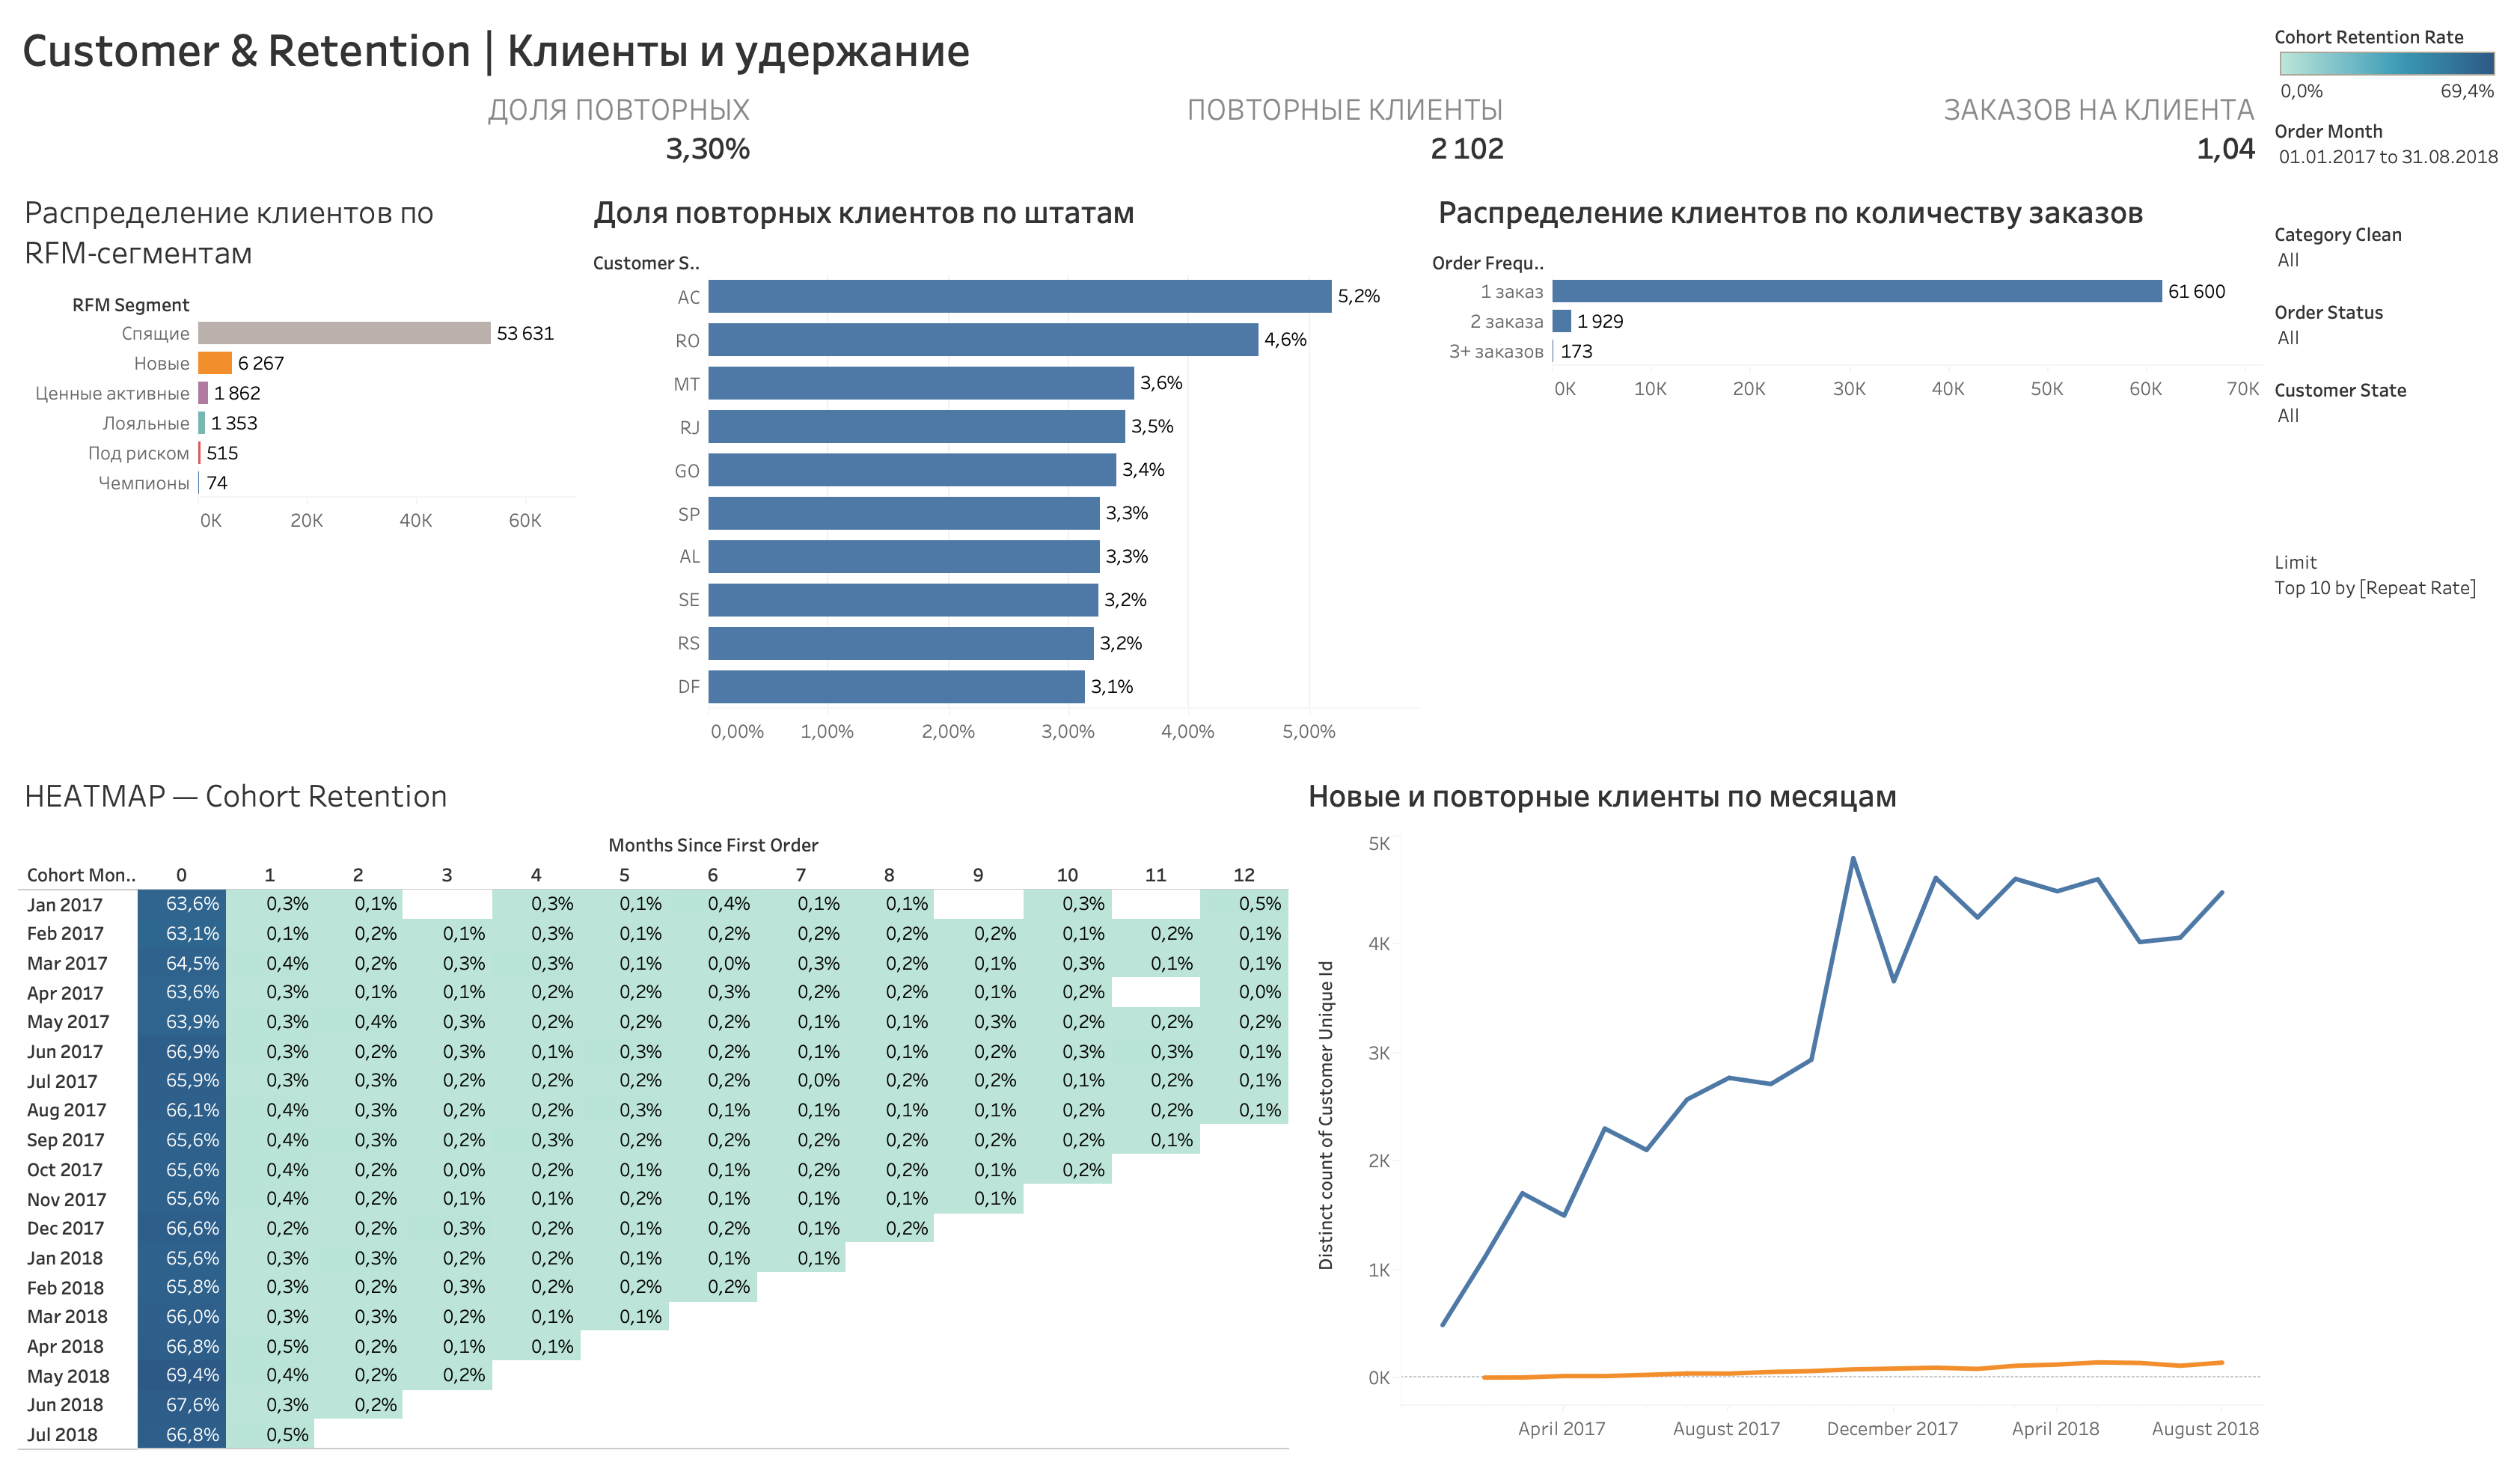

The dashboard page shown, as its layout file describes it:
{"tool":"tableau","page":{"name":"DASHBOARD — Customer Retention","canvas":[1000,1000],"units":"permille","ordinal":2},"visuals":[{"type":"title","box":[4.8,8.2,895.5,48.9]},{"type":"legend","title":"HEATMAP — Cohort Retention","param":"[federated.0z63i1q0upljid1ez2ag9110e76j].[usr:Calculation_4892926339018771:qk]","box":[900.2,8.2,95,66.2]},{"type":"worksheet","title":"KPI — Repeat Rate","mark":"Automatic","box":[4.8,57.1,298.5,62.7]},{"type":"worksheet","title":"KPI — Repeat Customers","mark":"Automatic","box":[303.2,57.1,298.5,62.7]},{"type":"worksheet","title":"KPI — Orders per Customer","mark":"Automatic","box":[601.7,57.1,298.5,62.7]},{"type":"filter","title":"CHART — New vs Returning","param":"[federated.0z63i1q0upljid1ez2ag9110e76j].[none:Calculation_4892926077497346:qk]","box":[900.2,74.4,95,70.3]},{"type":"worksheet","title":"BAR — RFM Segments","mark":"Automatic","rows":["Calculation_4892926345539609"],"cols":["customer_unique_id"],"box":[4.8,119.8,226.2,397.1]},{"type":"worksheet","title":"BAR — Repeat Rate by State","mark":"Automatic","rows":["customer_state"],"cols":["Calculation_4892926329651212"],"box":[231,119.8,334.6,397.1]},{"type":"worksheet","title":"BAR — Order Frequency","mark":"Automatic","rows":["Calculation_4892926335864847"],"cols":["customer_unique_id"],"box":[565.6,119.8,334.6,397.1]},{"type":"filter","title":"CHART — New vs Returning","param":"[federated.0z63i1q0upljid1ez2ag9110e76j].[none:Calculation_4892926087778308:nk]","box":[900.2,144.7,95,53]},{"type":"filter","title":"CHART — New vs Returning","param":"[federated.0z63i1q0upljid1ez2ag9110e76j].[none:order_status:nk]","box":[900.2,197.7,95,53]},{"type":"filter","title":"BAR — Repeat Rate by State","param":"[federated.0z63i1q0upljid1ez2ag9110e76j].[none:customer_state:nk]","box":[900.2,250.7,95,165.1]},{"type":"worksheet","title":"HEATMAP — Cohort Retention","mark":"Square","rows":["Calculation_4892926338572304"],"cols":["Calculation_4892926338646033"],"box":[4.8,516.8,509.5,475]},{"type":"worksheet","title":"CHART — New vs Returning","mark":"Automatic","rows":["customer_unique_id"],"cols":["order_purchase_timestamp"],"box":[514.2,516.8,386,475]}]}

Visuals, with their boxes on the dashboard's canvas, which has no fixed pixel size, in thousandths of its width and height (x1, y1, x2, y2). These are canvas units, not pixel positions in the 2520x1468 screenshot, which may show the page scaled, cropped or inside an application window:
title: pyautogui.locateOnScreen(5, 8, 900, 57)
"HEATMAP — Cohort Retention" legend: pyautogui.locateOnScreen(900, 8, 995, 74)
"KPI — Repeat Rate" worksheet: pyautogui.locateOnScreen(5, 57, 303, 120)
"KPI — Repeat Customers" worksheet: pyautogui.locateOnScreen(303, 57, 602, 120)
"KPI — Orders per Customer" worksheet: pyautogui.locateOnScreen(602, 57, 900, 120)
"CHART — New vs Returning" filter: pyautogui.locateOnScreen(900, 74, 995, 145)
"BAR — RFM Segments" worksheet: pyautogui.locateOnScreen(5, 120, 231, 517)
"BAR — Repeat Rate by State" worksheet: pyautogui.locateOnScreen(231, 120, 566, 517)
"BAR — Order Frequency" worksheet: pyautogui.locateOnScreen(566, 120, 900, 517)
"CHART — New vs Returning" filter: pyautogui.locateOnScreen(900, 145, 995, 198)
"CHART — New vs Returning" filter: pyautogui.locateOnScreen(900, 198, 995, 251)
"BAR — Repeat Rate by State" filter: pyautogui.locateOnScreen(900, 251, 995, 416)
"HEATMAP — Cohort Retention" worksheet (Square marks): pyautogui.locateOnScreen(5, 517, 514, 992)
"CHART — New vs Returning" worksheet: pyautogui.locateOnScreen(514, 517, 900, 992)
